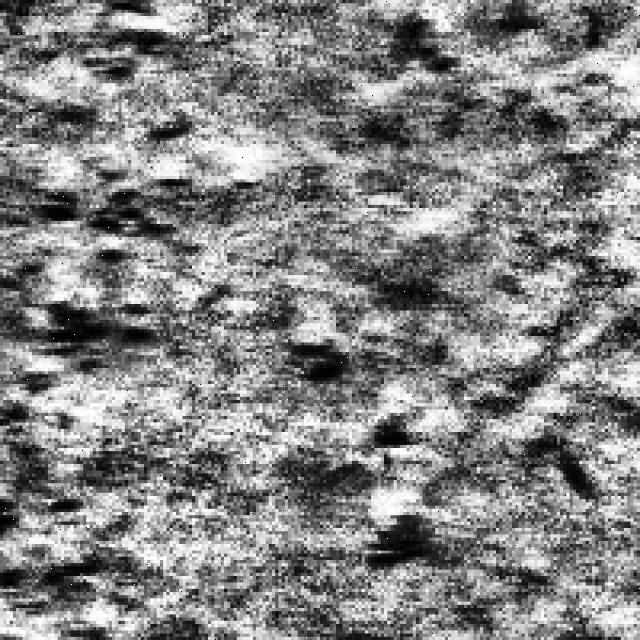Crazing: (12, 19, 202, 624), (301, 330, 464, 564), (58, 0, 180, 96)
